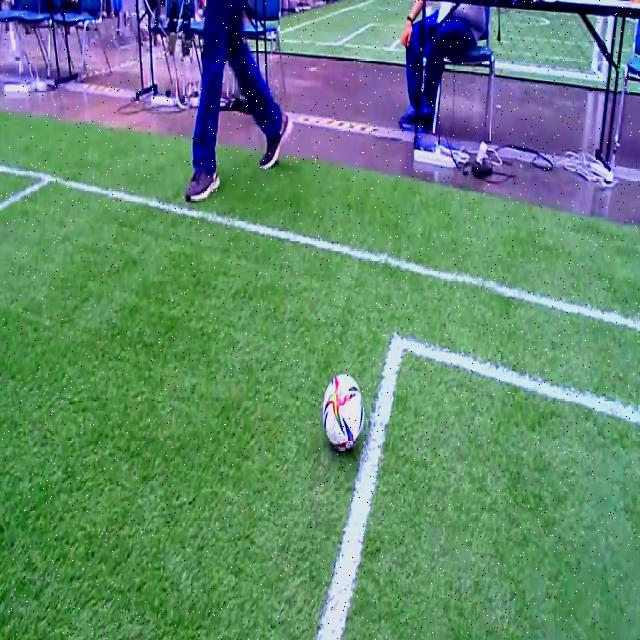ball: (322, 374, 364, 452)
